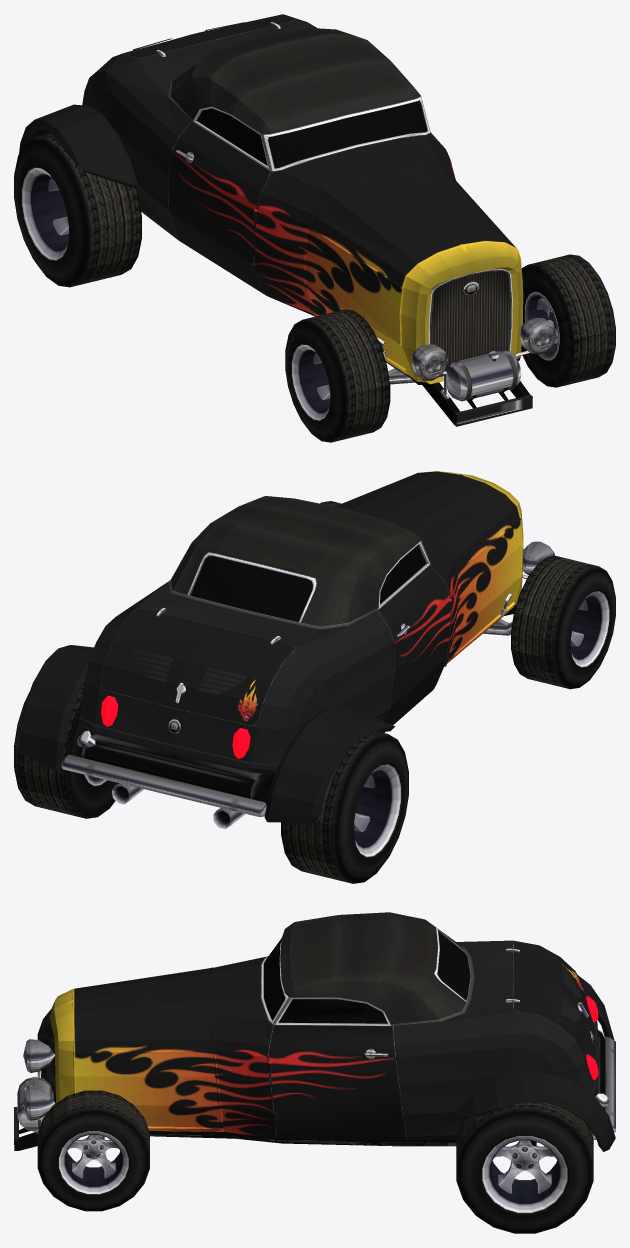
File: blade_rod_rework.glb
The picture shows the model from 3 angles, top to bottom: view 1: azimuth 30°, elevation 25°; view 2: azimuth 150°, elevation 25°; view 3: azimuth 270°, elevation 25°; orthographic projection. The views are drawn at different scales.
Parts seen in each view (by area): view 1: Car23_Body_0000_0000_Compact23_0, Car23_Wheel_0003_0000_Compact23_0.001, Car23_Wheel_0001_0000_Compact23_0.001, Car23_Wheel_0001_0000_Compact23_0; view 2: Car23_Body_0000_0000_Compact23_0, Car23_Wheel_0003_0000_Compact23_0.001, Car23_Wheel_0001_0000_Compact23_0.001, Car23_Wheel_0003_0000_Compact23_0; view 3: Car23_Body_0000_0000_Compact23_0, Car23_Wheel_0003_0000_Compact23_0, Car23_Wheel_0001_0000_Compact23_0, Car23_Wheel_0001_0000_Compact23_0.001.
Boxes of the visible parts, left/top/right/bottom form: Car23_Body_0000_0000_Compact23_0: left=19, top=14, right=556, bottom=426; Car23_Wheel_0003_0000_Compact23_0.001: left=14, top=133, right=141, bottom=287; Car23_Wheel_0001_0000_Compact23_0.001: left=285, top=309, right=390, bottom=442; Car23_Wheel_0001_0000_Compact23_0: left=521, top=254, right=615, bottom=387; Car23_Body_0000_0000_Compact23_0: left=19, top=471, right=555, bottom=829; Car23_Wheel_0003_0000_Compact23_0.001: left=281, top=731, right=408, bottom=883; Car23_Wheel_0001_0000_Compact23_0.001: left=511, top=556, right=615, bottom=689; Car23_Wheel_0003_0000_Compact23_0: left=14, top=685, right=119, bottom=818; Car23_Body_0000_0000_Compact23_0: left=14, top=912, right=615, bottom=1157; Car23_Wheel_0003_0000_Compact23_0: left=456, top=1102, right=593, bottom=1233; Car23_Wheel_0001_0000_Compact23_0: left=37, top=1090, right=149, bottom=1211; Car23_Wheel_0001_0000_Compact23_0.001: left=37, top=1009, right=55, bottom=1095.
Bounding box in the file's own units: 2.58 × 1.85 × 4.46.
Materials: 4 (2 with a texture image).
